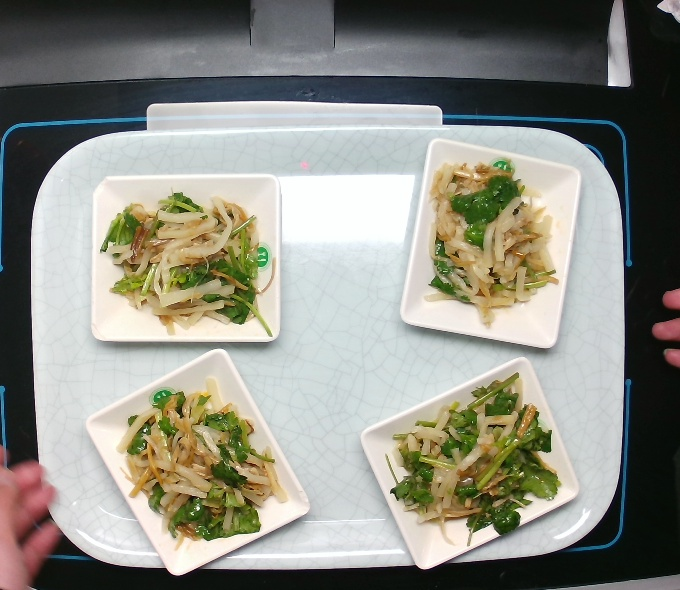wcq-LiangBanJinZhenGu: (398, 372, 560, 546), (103, 187, 265, 336), (121, 382, 283, 531), (423, 165, 567, 307)
